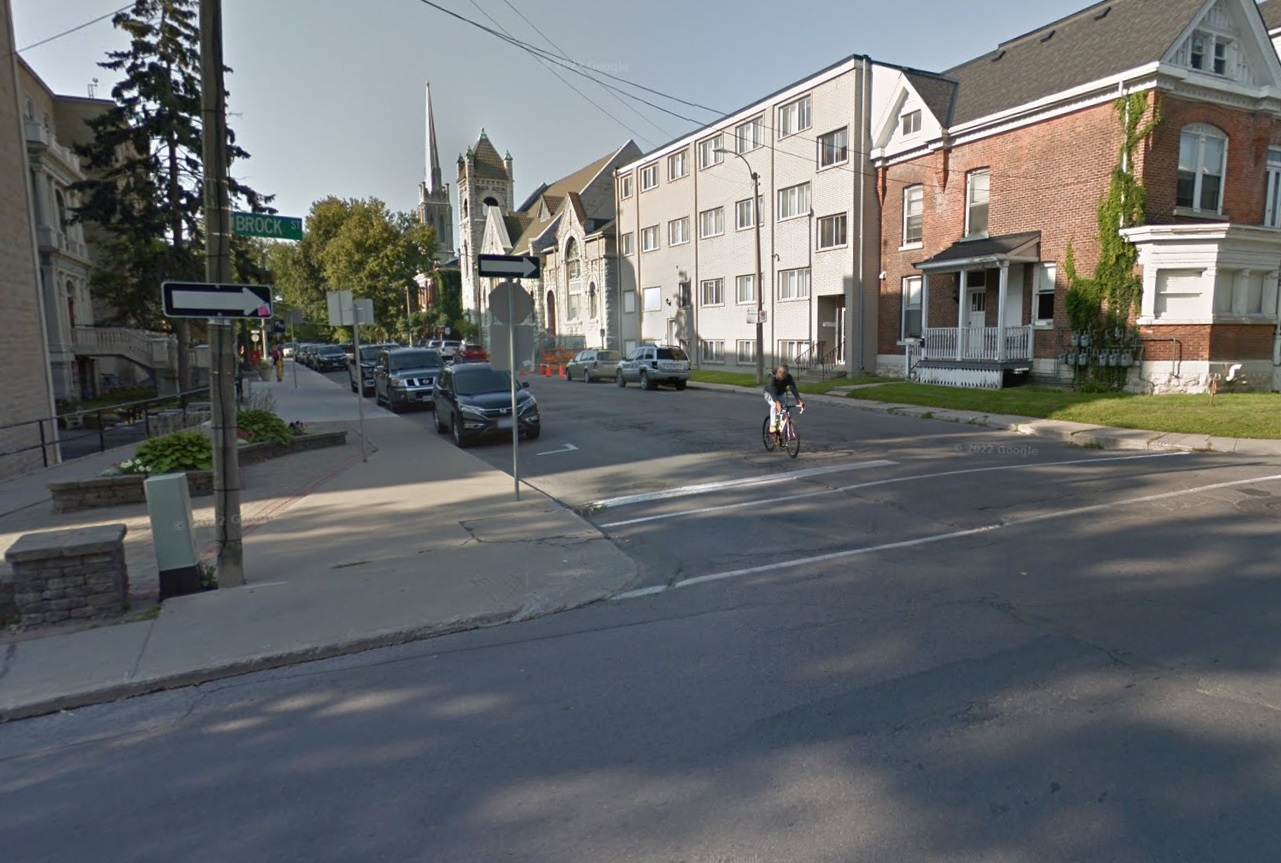sign_oneway_right: (161, 278, 274, 321), (475, 251, 541, 280)
